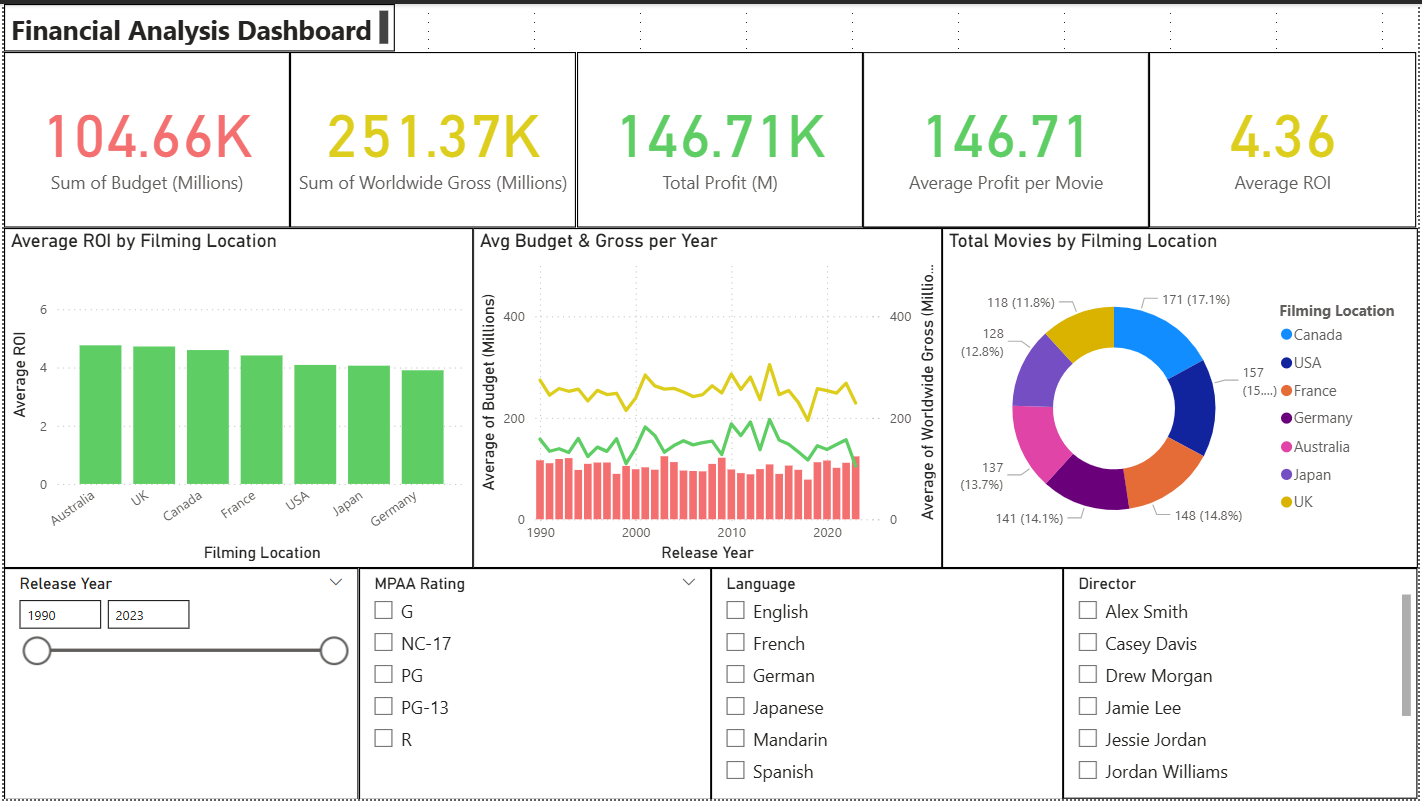

Layout of this report page (visuals, bound fields, positions):
{"tool":"powerbi","page":{"name":"Financial Dashboard","canvas":[1280,720],"ordinal":14},"visuals":[{"type":"card","fields":{"Values":["Production Details.Budget (Millions)"]},"box":[0,43.5,259.3,159.3],"z":0},{"type":"textbox","box":[0,0,339.5,43.5],"z":1000},{"type":"card","fields":{"Values":["Revenue & Ratings.Worldwide Gross (Millions)"]},"box":[259.3,43.5,259.3,159.3],"z":2000},{"type":"card","fields":{"Values":["Production Details.Total Profit (M)"]},"box":[518.6,43.5,259.3,159.3],"z":3000},{"type":"card","fields":{"Values":["Production Details.Average ROI"]},"box":[1037.2,43.5,242.5,159.3],"z":4000},{"type":"card","fields":{"Values":["Production Details.Average Profit per Movie"]},"box":[777.9,43.5,259.3,159.3],"z":5000},{"type":"lineStackedColumnComboChart","title":"Avg Budget & Gross per Year","fields":{"Category":["Production Details.Release Year"],"Y":["Production Details.Budget (Millions)"],"Y2":["Revenue & Ratings.Worldwide Gross (Millions)","Revenue & Ratings.Profit (M)"]},"box":[424.6,202.9,424.6,307.8],"z":6000},{"type":"columnChart","fields":{"Category":["Production Details.Filming Location"],"Y":["Production Details.Average ROI"]},"box":[0,202.9,424.6,307.8],"z":7000},{"type":"donutChart","title":"Total Movies by Filming Location","fields":{"Category":["Production Details.Filming Location"],"Y":["Production Details.Movie ID"]},"box":[849.2,202.9,430.5,307.8],"z":8000},{"type":"slicer","fields":{"Values":["Production Details.Release Year"]},"box":[0,510.7,320.7,209.8],"z":9000},{"type":"slicer","fields":{"Values":["Revenue & Ratings.MPAA Rating"]},"box":[321.6,510.7,318.7,209.8],"z":10000},{"type":"slicer","fields":{"Values":["Production Details.Language"]},"box":[640.3,510.7,318.7,209.8],"z":11000},{"type":"slicer","fields":{"Values":["Production Details.Director"]},"box":[959,511,321,209],"z":12000}]}

Visuals, with their boxes in screenshot pixels (x1, y1, x2, y2), scaled from the page's 1280x720 canvas onto the 1422x804 screenshot:
card - Production Details.Budget (Millions): 0,49,288,226
textbox: 0,0,377,49
card - Revenue & Ratings.Worldwide Gross (Millions): 288,49,576,226
card - Production Details.Total Profit (M): 576,49,864,226
card - Production Details.Average ROI: 1152,49,1421,226
card - Production Details.Average Profit per Movie: 864,49,1152,226
"Avg Budget & Gross per Year" lineStackedColumnComboChart: 472,227,943,570
columnChart - Production Details.Filming Location x Production Details.Average ROI: 0,227,472,570
"Total Movies by Filming Location" donutChart: 943,227,1421,570
slicer - Production Details.Release Year: 0,570,356,803
slicer - Revenue & Ratings.MPAA Rating: 357,570,711,803
slicer - Production Details.Language: 711,570,1065,803
slicer - Production Details.Director: 1065,571,1421,803
